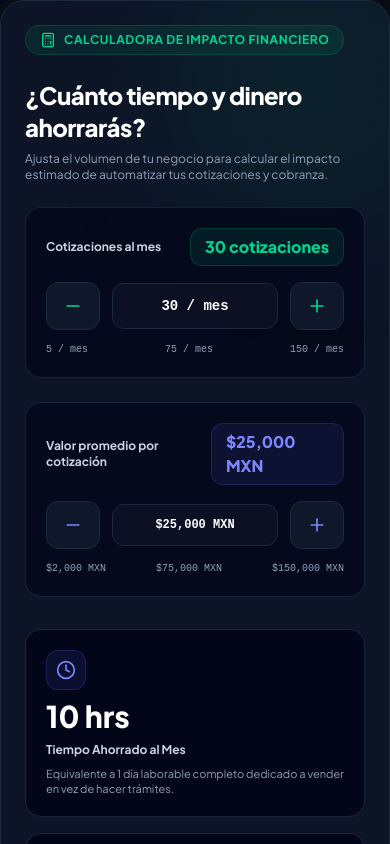
Test case: RoiCalculator Component & Steppers Suite › provides stepper buttons for quote value on mobile with min-h-[48px] touch targets
Check: the button named "Disminuir valor promedio" is shown, box [46,501,100,549]
Click the button named "Aumentar valor promedio".
click(317, 525)  # box [290,501,344,549]
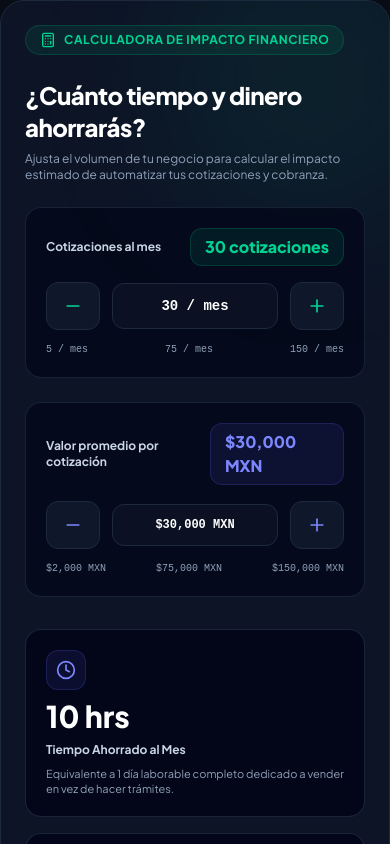
Check: the text "$30,000 MXN" next to "Valor promedio por cotización" is shown, box [210,423,344,485]
Click the button named "Disminuir valor promedio".
click(73, 525)  # box [46,501,100,549]
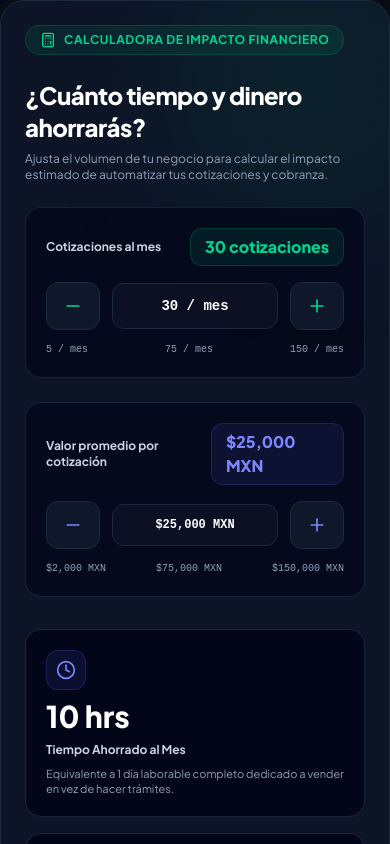
Check: the text "$25,000 MXN" next to "Valor promedio por cotización" is shown, box [211,423,344,485]
